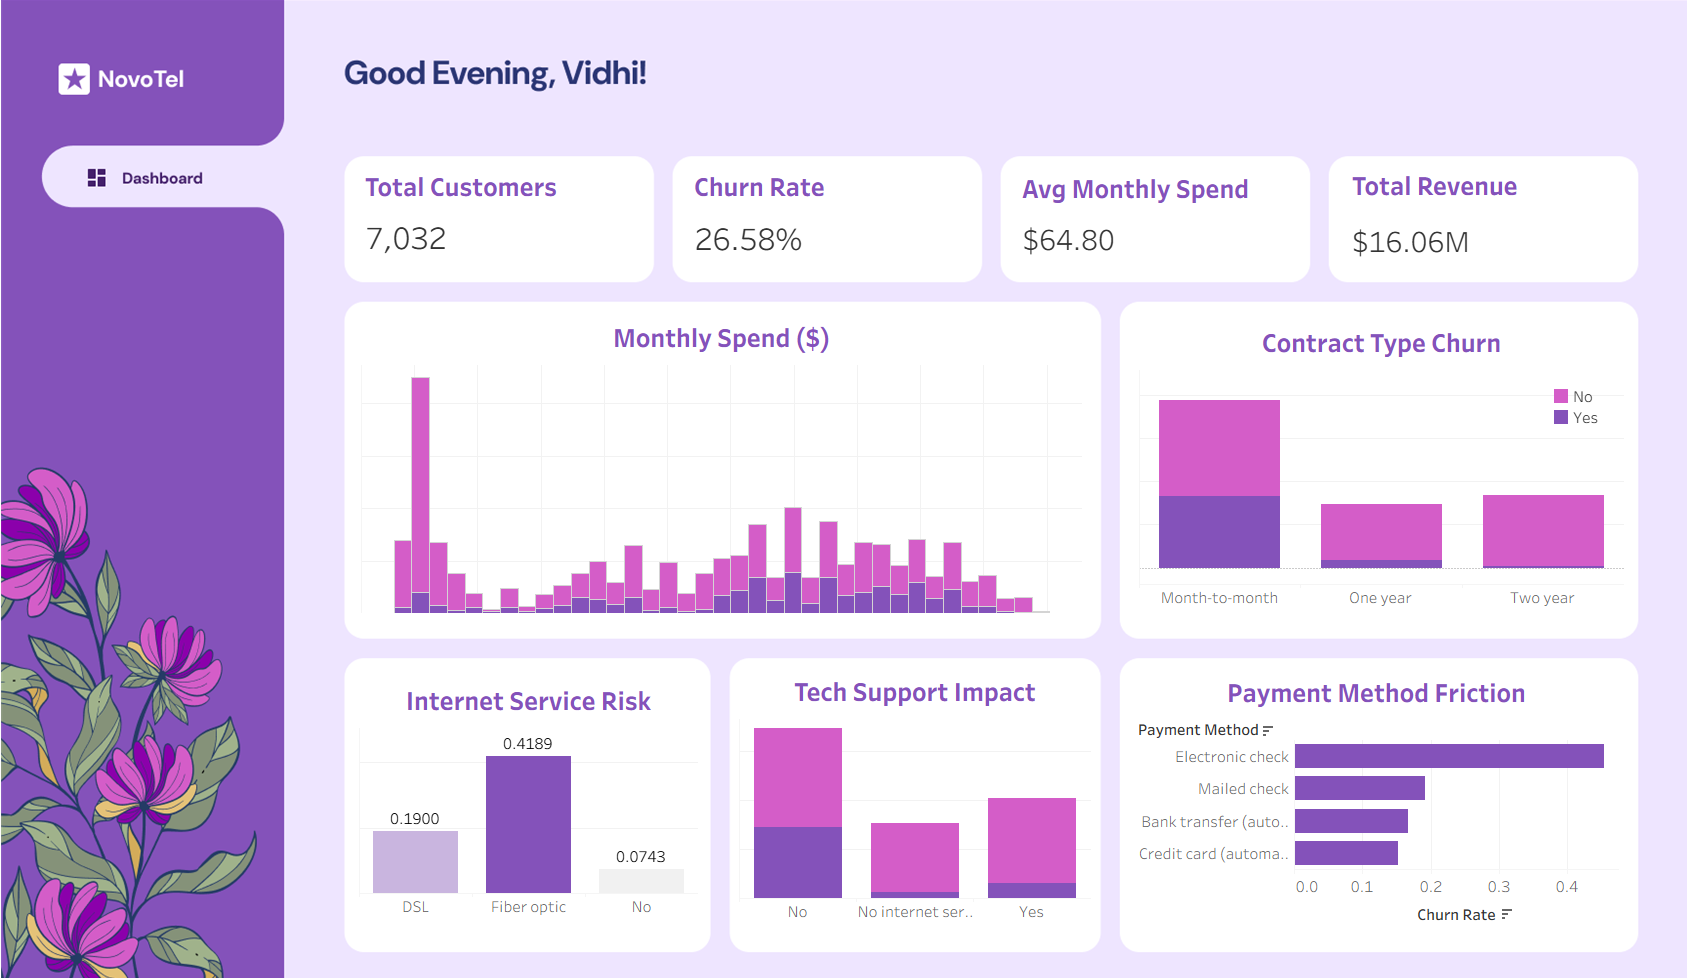

This screenshot's page, from the dashboard's own definition file:
{"tool":"tableau","page":{"name":"Dashboard 1","canvas":[1730,1024],"ordinal":0},"visuals":[{"type":"image","param":"C:/Users/vidhi/Desktop/Dashboard.png","box":[8,8,1714,1008]},{"type":"worksheet","title":"Total Revenue","mark":"Automatic","box":[1367,177,276,105]},{"type":"worksheet","title":"Total Customers","mark":"Automatic","box":[380,178,279,97]},{"type":"worksheet","title":"Churn Rate","mark":"Automatic","box":[709,178,275,98]},{"type":"worksheet","title":"Avg Monthly Spend","mark":"Automatic","box":[1037,180,285,95]},{"type":"worksheet","title":"Distribution of Monthly Spend","mark":"Automatic","rows":["MonthlyCharges"],"cols":["Monthly Charges (bin)"],"box":[380,329,721,297]},{"type":"worksheet","title":"Contract Type Analysis","mark":"Automatic","rows":["cleaned_customer_data.csv_3543ABC7E14549E88EC7F1C623C0DB2F"],"cols":["Contract"],"box":[1158,334,485,303]},{"type":"legend","title":"Contract Type Analysis","param":"[federated.0qttap10dn24g510op1ma1n4xswa].[none:Churn:nk]","box":[1570,399,62,42]},{"type":"worksheet","title":"Tech Support Impact","mark":"Automatic","rows":["cleaned_customer_data.csv_3543ABC7E14549E88EC7F1C623C0DB2F"],"cols":["TechSupport"],"box":[758,683,352,268]},{"type":"worksheet","title":"Payment Method Friction","mark":"Automatic","rows":["PaymentMethod"],"cols":["Calculation_265712390317461504"],"box":[1153,684,485,261]},{"type":"worksheet","title":"Internet Service Risk","mark":"Automatic","rows":["Calculation_265712390317461504"],"cols":["InternetService"],"box":[378,692,339,254]}]}

Visuals, with their boxes in screenshot pixels (x1, y1, x2, y2), scaled from the page's 1730x1024 canvas onto the 1687x978 screenshot:
image: x1=8, y1=8, x2=1679, y2=970
"Total Revenue" worksheet: x1=1333, y1=169, x2=1602, y2=269
"Total Customers" worksheet: x1=371, y1=170, x2=643, y2=263
"Churn Rate" worksheet: x1=691, y1=170, x2=960, y2=264
"Avg Monthly Spend" worksheet: x1=1011, y1=172, x2=1289, y2=263
"Distribution of Monthly Spend" worksheet: x1=371, y1=314, x2=1074, y2=598
"Contract Type Analysis" worksheet: x1=1129, y1=319, x2=1602, y2=608
"Contract Type Analysis" legend: x1=1531, y1=381, x2=1591, y2=421
"Tech Support Impact" worksheet: x1=739, y1=652, x2=1082, y2=908
"Payment Method Friction" worksheet: x1=1124, y1=653, x2=1597, y2=903
"Internet Service Risk" worksheet: x1=369, y1=661, x2=699, y2=904
